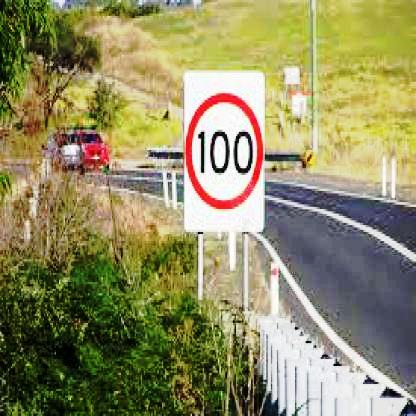Speed Limit -100-: (181, 89, 262, 209)
